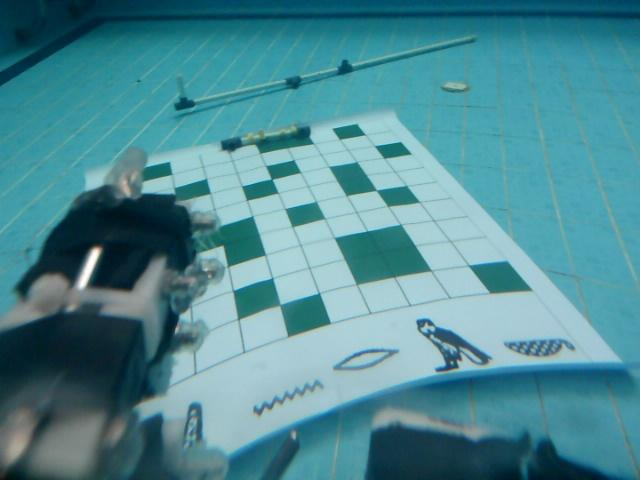Basket: (499, 329, 580, 361)
Mouth: (330, 346, 401, 372)
Owl: (411, 317, 491, 374)
Water: (252, 376, 326, 419)
